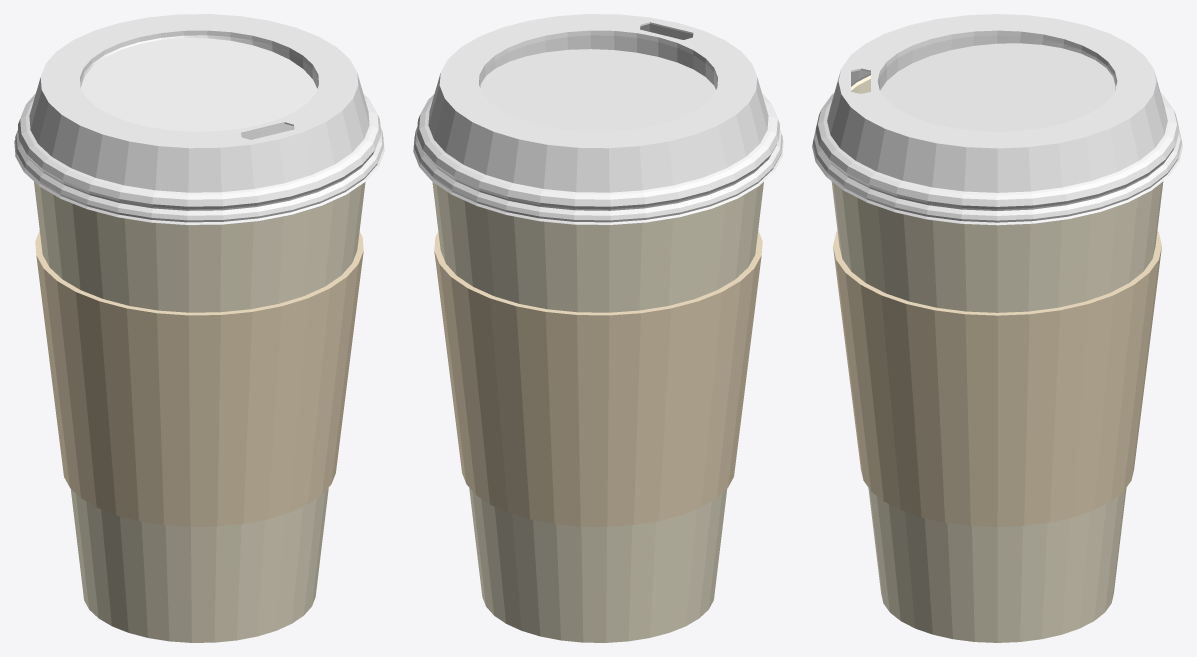
Rendered from coffee_cup.obj.
3 views of the same model, side by side, from view 1: azimuth 30°, elevation 25°; view 2: azimuth 150°, elevation 25°; view 3: azimuth 270°, elevation 25° (orthographic).
Visible parts, largest first — view 1: Circle.002_Circle.006, Circle.001, Circle; view 2: Circle.002_Circle.006, Circle.001, Circle; view 3: Circle.002_Circle.006, Circle.001, Circle.
Part boxes in pixels (box(x1,y1,x2,y2)): Circle.002_Circle.006: box(35, 231, 363, 526); Circle.001: box(14, 14, 384, 225); Circle: box(34, 182, 365, 642); Circle.002_Circle.006: box(434, 231, 762, 526); Circle.001: box(413, 14, 783, 225); Circle: box(432, 182, 763, 642); Circle.002_Circle.006: box(833, 231, 1161, 526); Circle.001: box(812, 14, 1182, 225); Circle: box(831, 75, 1163, 642).
Size of the model in its own units: 3.19 by 4.86 by 3.19.
